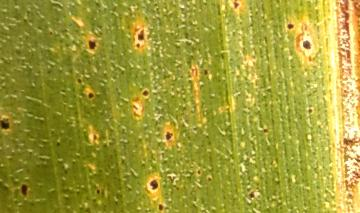tarspot: (17, 180, 31, 199), (84, 38, 101, 51), (1, 116, 13, 131), (148, 177, 159, 191), (164, 129, 175, 143), (246, 187, 257, 201), (137, 26, 146, 43), (260, 125, 272, 137), (301, 38, 312, 51), (155, 201, 166, 213), (139, 87, 150, 99), (85, 90, 96, 101), (75, 76, 86, 87), (284, 22, 297, 31), (230, 1, 241, 11), (54, 139, 64, 150), (306, 105, 315, 117), (204, 173, 214, 183), (93, 187, 102, 196), (201, 68, 209, 77)
